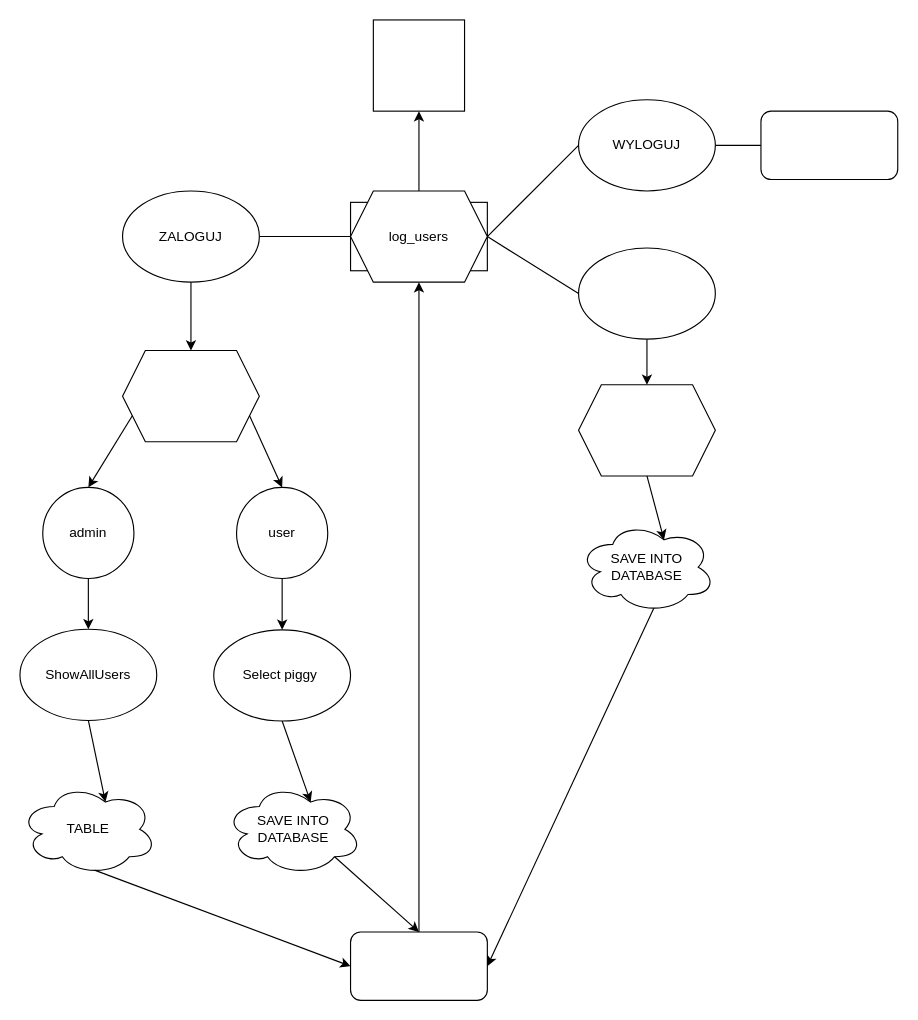
This 918x1020 diagram has some shape labels left out. Each missing label, with the centre of its shape:
INFORMATION: point 829,145
MAIN: point 418,65
reg_user: point 190,395
UZYTKOWNIK: point 646,430
ZAREJESTRUJ: point 646,293
